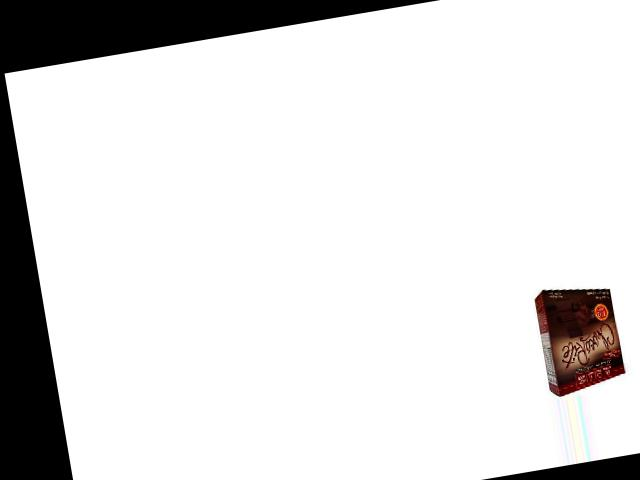chocolate: (533, 278, 628, 395)
